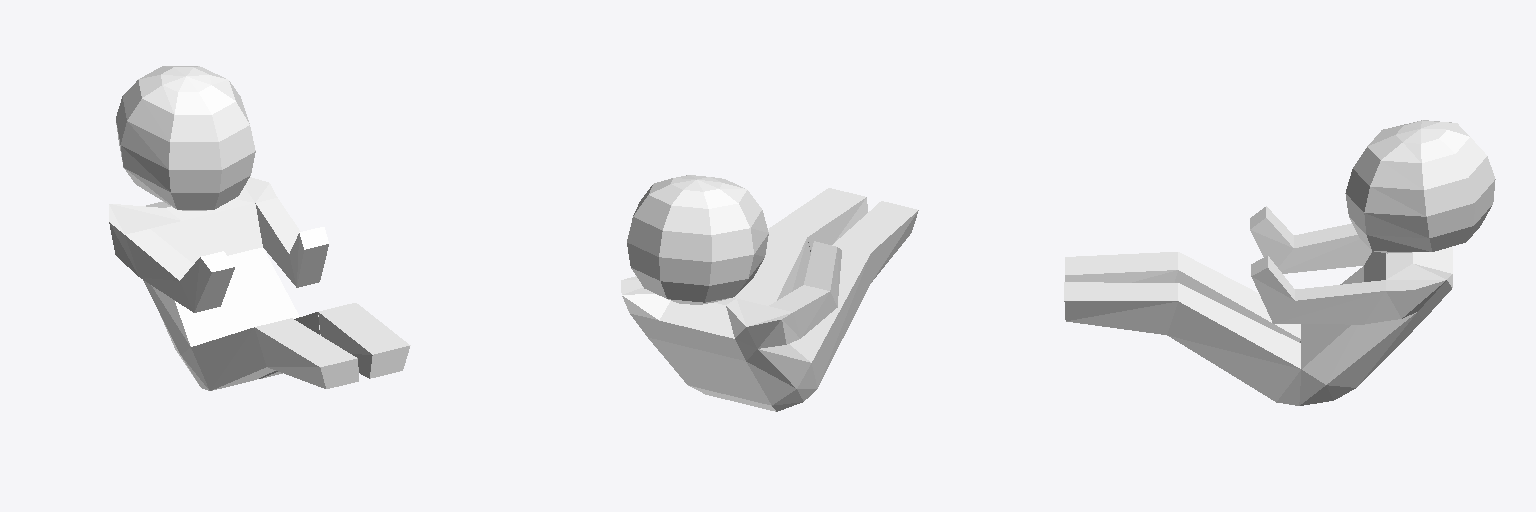
Rendered from driver01.obj.
The picture shows the model from 3 angles: view 1: azimuth 30°, elevation 25°; view 2: azimuth 150°, elevation 25°; view 3: azimuth 270°, elevation 25°; orthographic projection.
Size of the model in its own units: 1.1 by 1.66 by 2.54.